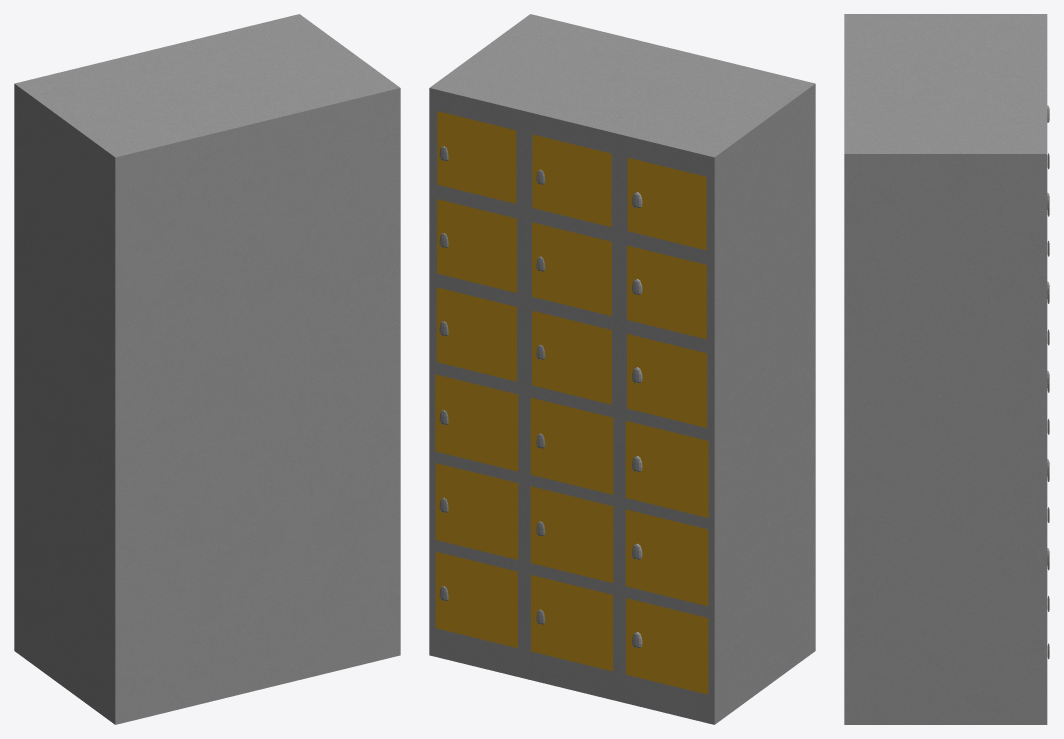
The model's file is ARMARIO LOCKER MARELO.fbx.
3 renders of one model, left to right at view 1: azimuth 30°, elevation 25°; view 2: azimuth 150°, elevation 25°; view 3: azimuth 270°, elevation 25°, orthographic.
Visible parts, largest first — view 1: Cube; view 2: Cube; view 3: Cube.
Boxes of the visible parts, <box> form: Cube: <box>14,14,400,724</box>; Cube: <box>429,14,815,724</box>; Cube: <box>844,14,1049,724</box>.
Size of the model in its own units: 1.35 by 2.57 by 0.8384.
Materials: 2 (1 with a texture image).
